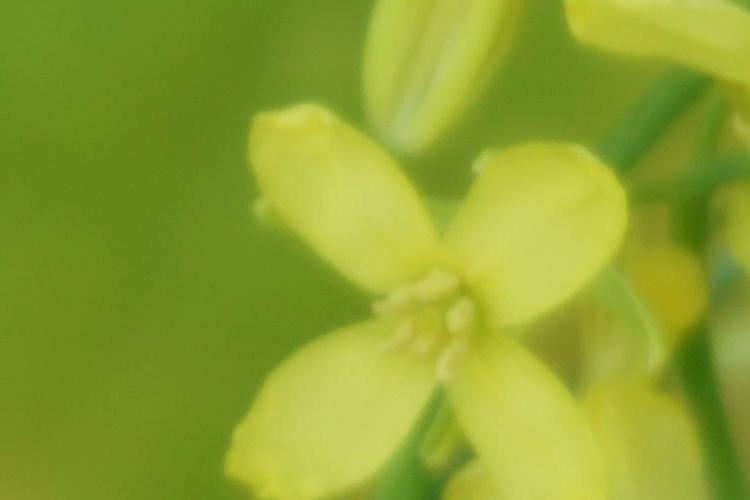yellow: (221, 119, 635, 488)
